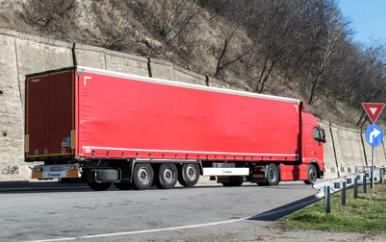vehicle: (24, 66, 326, 190)
